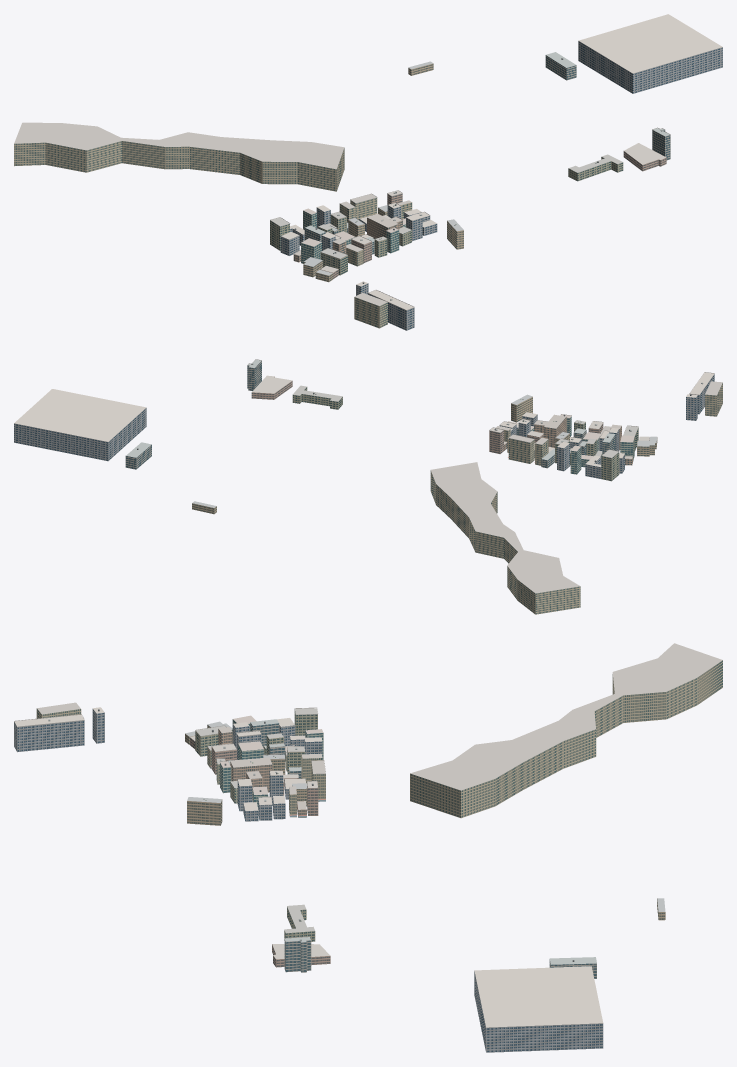
3 views of the same model, one above another, from view 1: azimuth 30°, elevation 25°; view 2: azimuth 150°, elevation 25°; view 3: azimuth 270°, elevation 25° (orthographic). The views are drawn at different scales.
Parts seen in each view (by area): view 1: Station 9 surrounding real OSM building footprints; view 2: Station 9 surrounding real OSM building footprints; view 3: Station 9 surrounding real OSM building footprints.
Part boxes in pixels (box(x1,y1,x2,y2)): Station 9 surrounding real OSM building footprints: box(14, 14, 722, 330); Station 9 surrounding real OSM building footprints: box(14, 359, 722, 614); Station 9 surrounding real OSM building footprints: box(14, 643, 722, 1052).
Size of the model in its own units: 923 by 35.55 by 724.
Materials: 25 (8 with a texture image).
